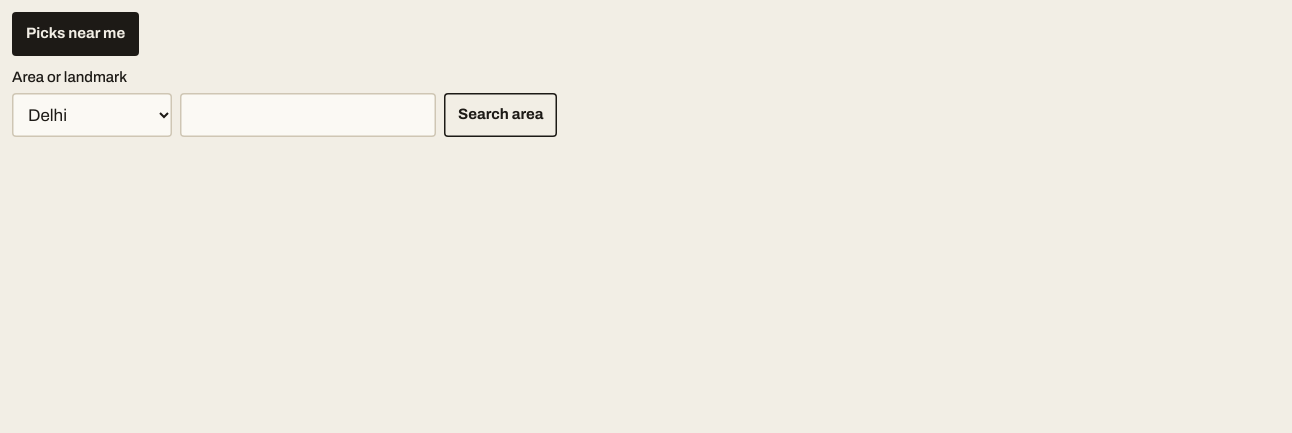
Test case: HomeNearMe › shows nearby picks and says the location stays on the device
The width and height of the screenshot is (1292, 433).
Click the button "Picks near me" at [76, 34], box left=12, top=12, right=139, bottom=56
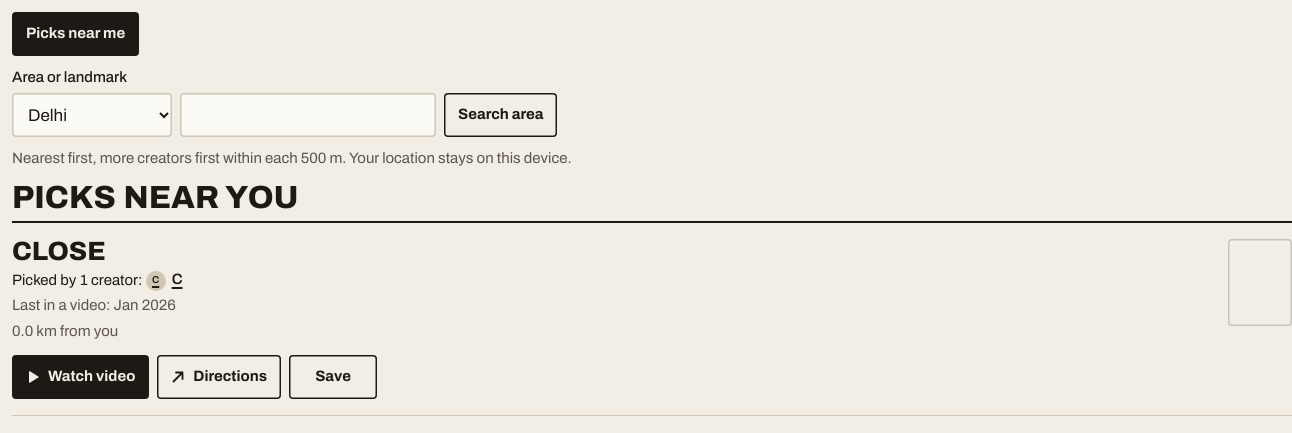
Check: the heading "Picks near you" is shown, box left=12, top=180, right=299, bottom=215
Check: the text "Nearest first, more creators first within each 500 m. Your location stays on this device." is shown, box left=12, top=151, right=572, bottom=167
Check: the link "close" is shown, box left=12, top=237, right=106, bottom=266
